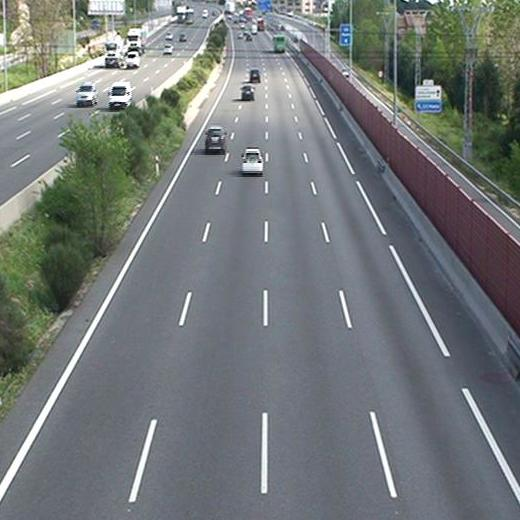bus: (273, 34, 287, 53)
car: (240, 148, 263, 175), (205, 125, 226, 152), (240, 83, 256, 101), (250, 69, 262, 82)
